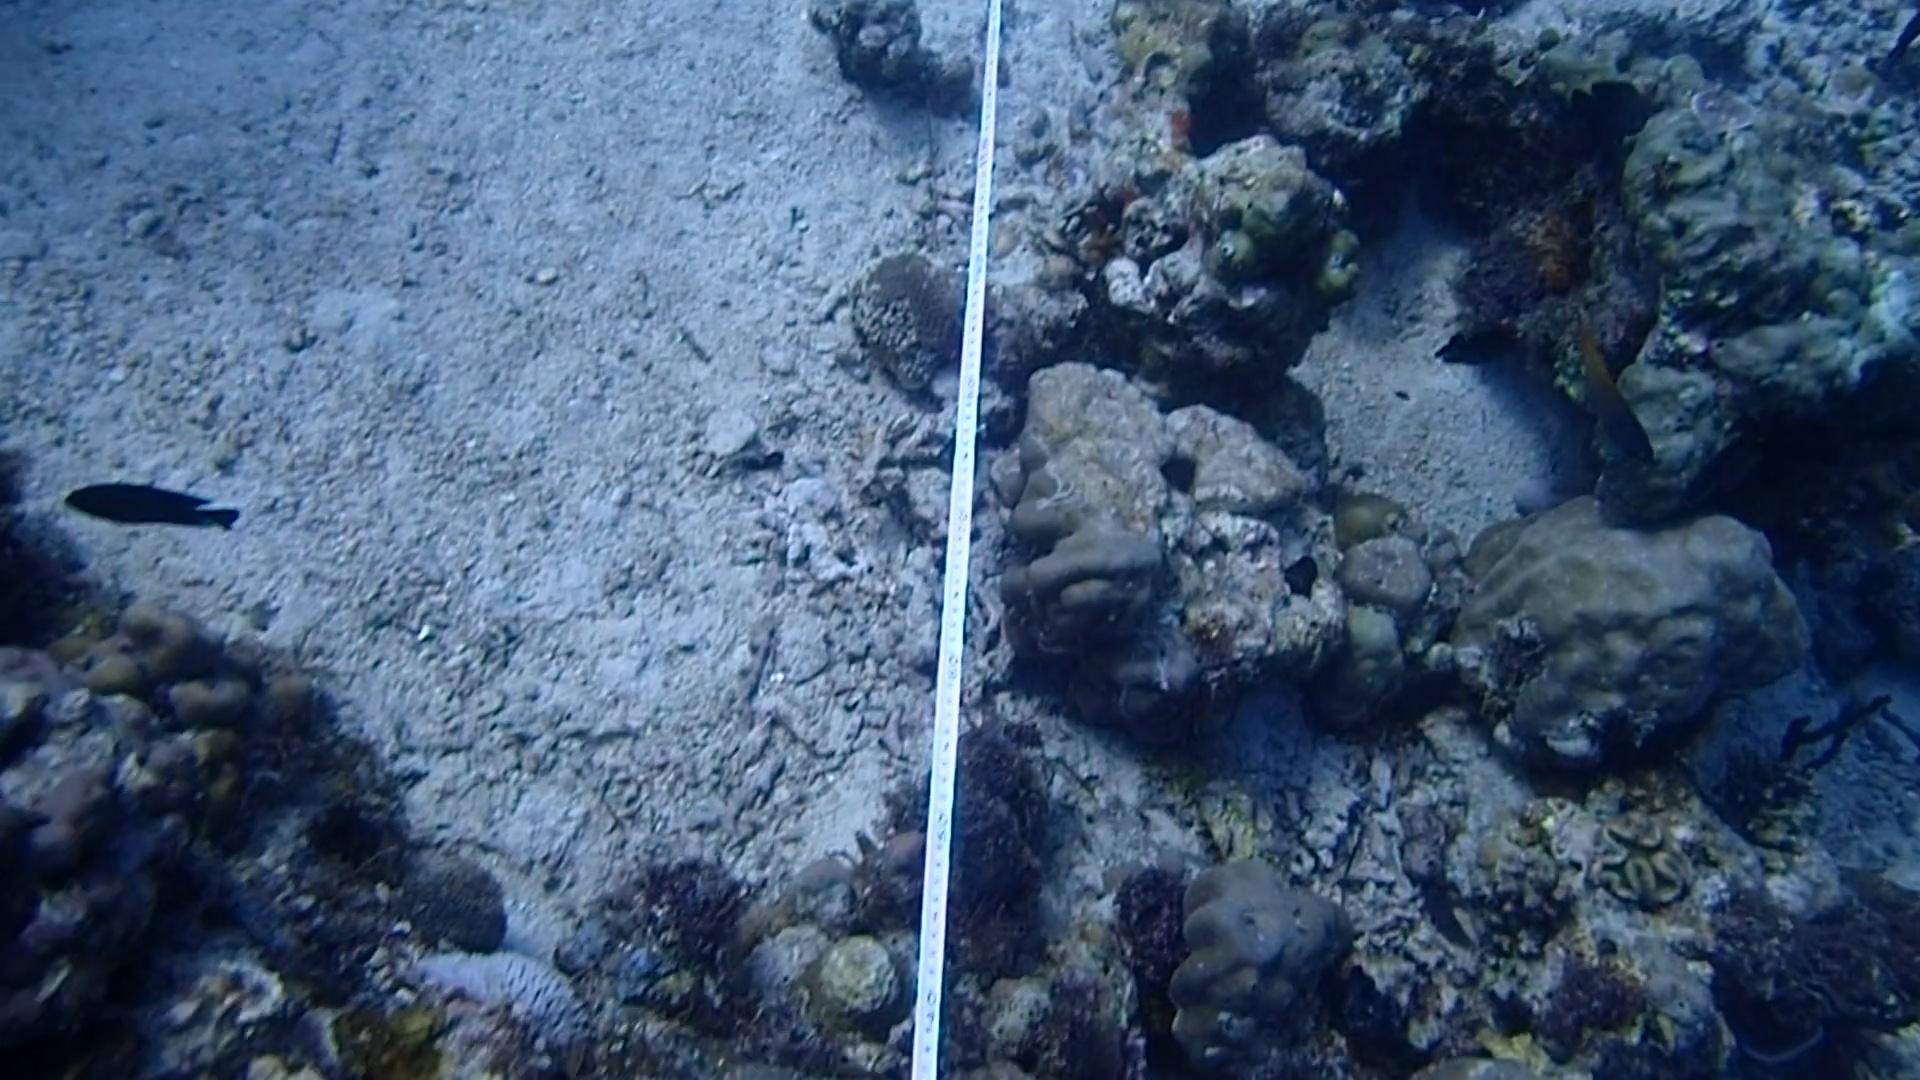Dark Fish: (53, 467, 240, 550), (1423, 313, 1522, 381)
Half Blue - Half Yellow: (1567, 318, 1660, 476)
